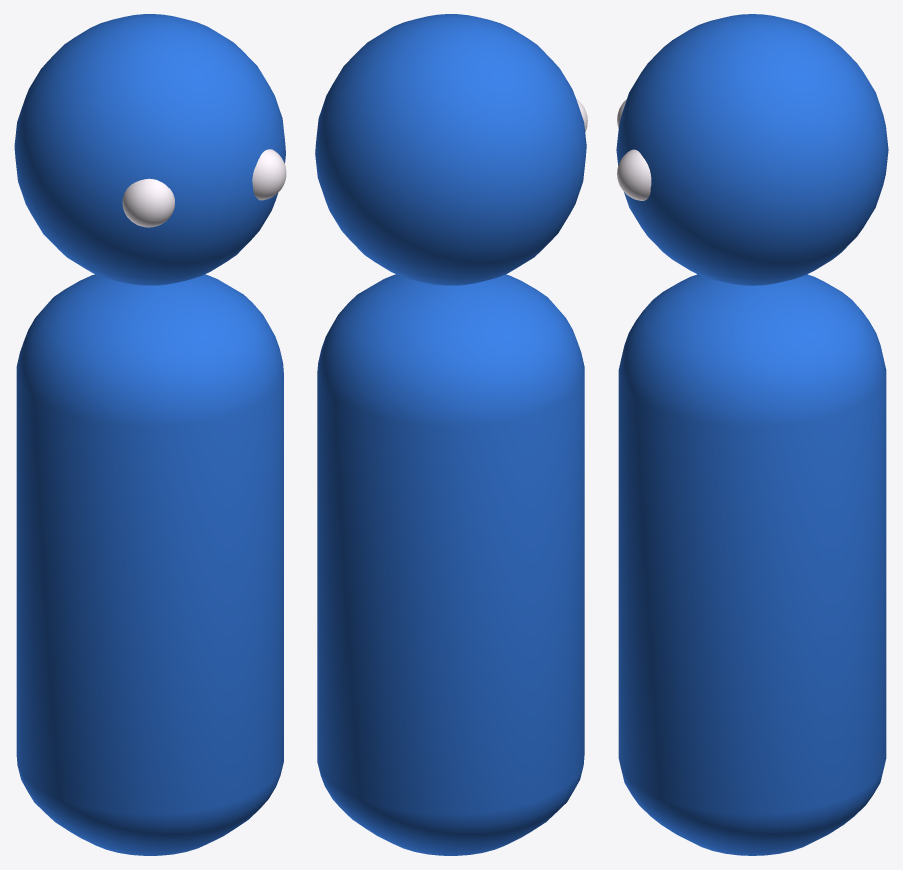
Rendered from person.fbx.
3 views of the same model, side by side, from view 1: azimuth 30°, elevation 25°; view 2: azimuth 150°, elevation 25°; view 3: azimuth 270°, elevation 25° (orthographic).
Visible parts, largest first — view 1: Sphere.007; view 2: Sphere.007; view 3: Sphere.007.
Boxes of the visible parts, x1,y1,x2,y2 form: Sphere.007: [14, 14, 286, 855]; Sphere.007: [315, 14, 587, 855]; Sphere.007: [616, 14, 888, 855].
Bounding box in the file's own units: 54.5 × 180 × 54.5.
